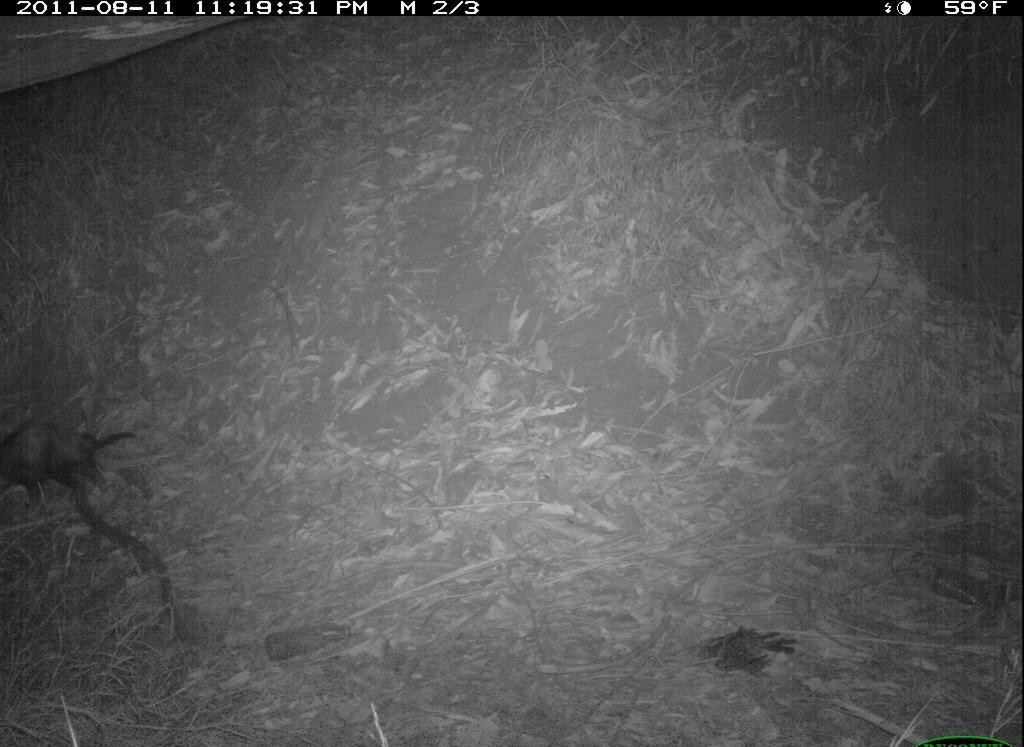opossum: (1, 415, 150, 513)
